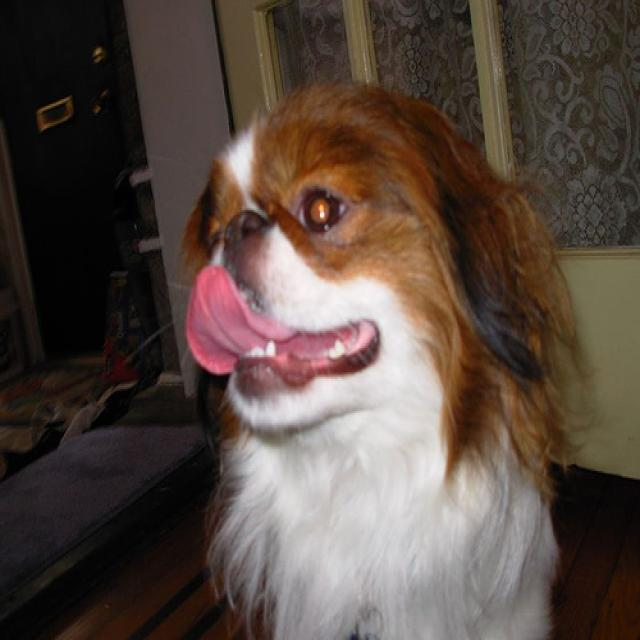dog: (184, 82, 535, 432)
